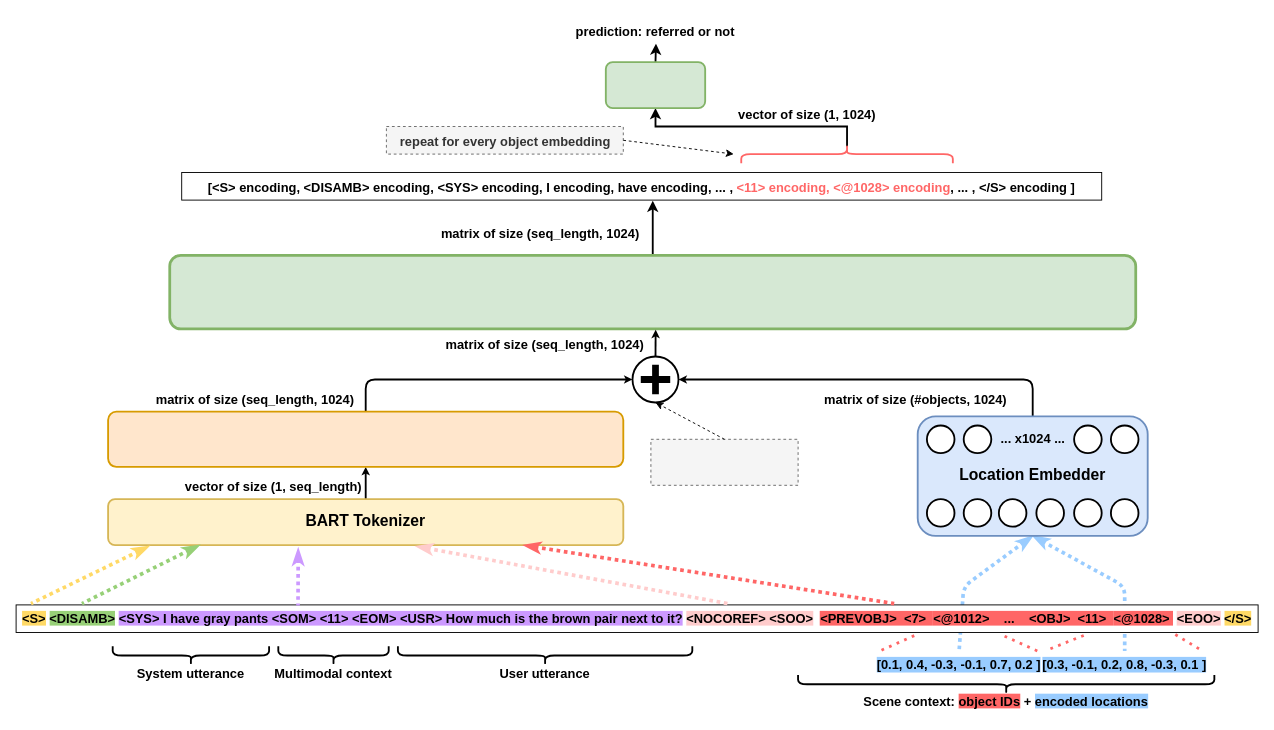
This 1274x730 diagram has some shape labels left out. Each missing label, with the centre of its shape:
BART Embedder: [365,438]
BART Encoder: [652,291]
Coreference Head: [655,85]
object embeddings + location embeddings: [724,461]
